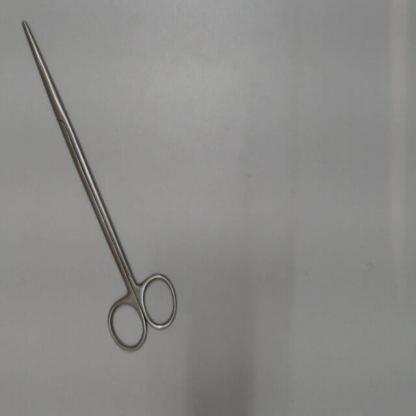9 Metzenbaum Scissors: (17, 13, 185, 361)
